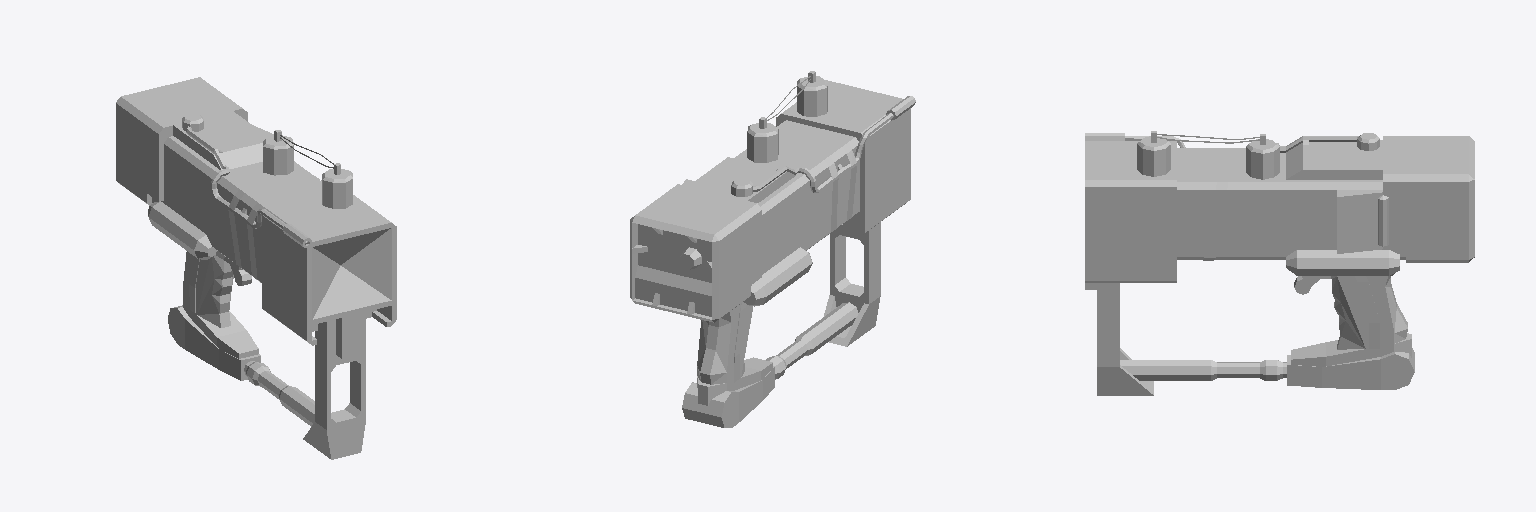
The model's file is laser_pistol.obj.
3 views of the same model, side by side, from view 1: azimuth 30°, elevation 25°; view 2: azimuth 150°, elevation 25°; view 3: azimuth 270°, elevation 25° (orthographic).
Parts seen in each view (by area): view 1: Gun, Capacitors, Tape; view 2: Gun, Capacitors, Tape; view 3: Gun, Latch, Capacitors, Tape.
Part boxes in pixels (left/top/right/bottom): Gun: left=116, top=77, right=396, bottom=459; Capacitors: left=263, top=130, right=352, bottom=208; Tape: left=228, top=176, right=321, bottom=282; Gun: left=630, top=80, right=915, bottom=427; Capacitors: left=747, top=71, right=827, bottom=162; Tape: left=779, top=129, right=856, bottom=235; Gun: left=1085, top=133, right=1474, bottom=395; Latch: left=1337, top=190, right=1451, bottom=253; Capacitors: left=1137, top=131, right=1279, bottom=179; Tape: left=1192, top=148, right=1239, bottom=260.
Bounding box in the file's own units: 2.69 × 6.41 × 8.5.